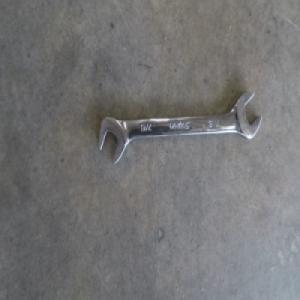Wrench: (96, 91, 258, 163)
